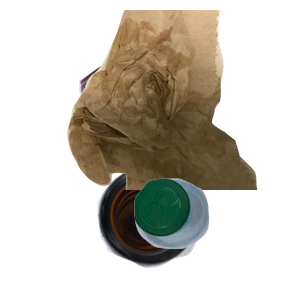glass: (95, 164, 286, 300)
metal: (77, 61, 222, 191)
plastic: (132, 176, 300, 300)
trash: (65, 10, 300, 190)
